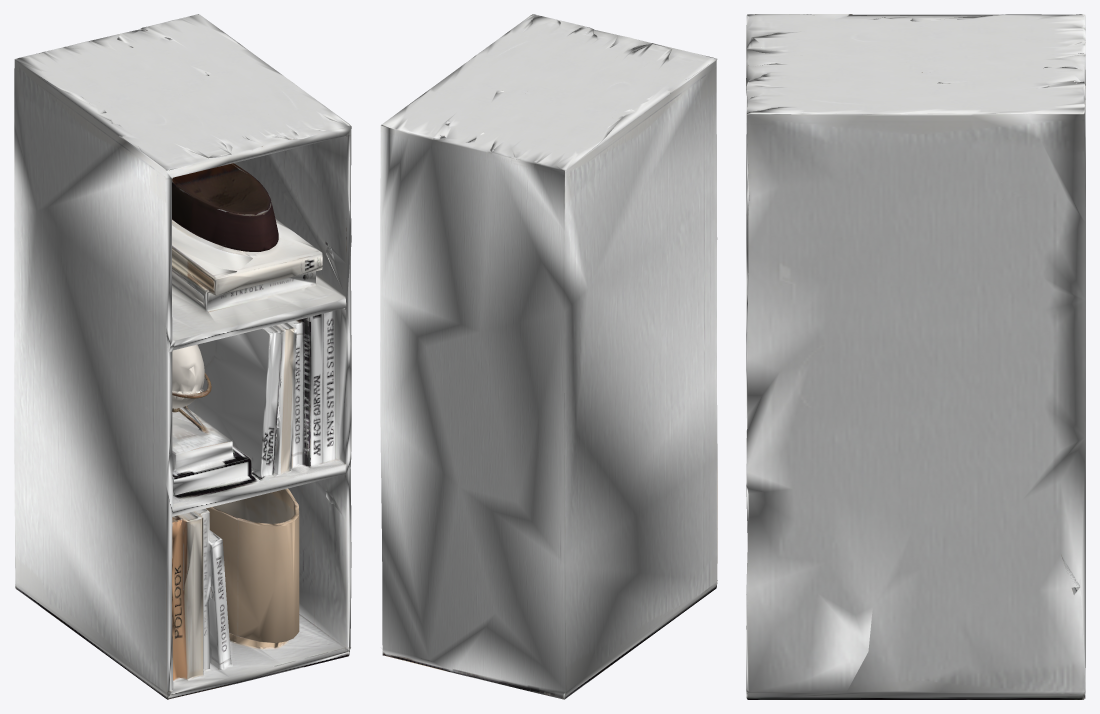
Rendered from meshy-target-83817772.glb.
3 views of the same model, side by side, from view 1: azimuth 30°, elevation 25°; view 2: azimuth 150°, elevation 25°; view 3: azimuth 270°, elevation 25° (orthographic). The views are drawn at different scales.
Visible parts, largest first — view 1: Exact catalog scale: target-83817772; view 2: Exact catalog scale: target-83817772; view 3: Exact catalog scale: target-83817772.
Part boxes in pixels (x1,y1,x2,y2): Exact catalog scale: target-83817772: (14,14,351,699); Exact catalog scale: target-83817772: (380,14,717,699); Exact catalog scale: target-83817772: (746,14,1085,699).
Bounding box in the file's own units: 0.292 × 0.8 × 0.419.
1 material, 1 textured.
